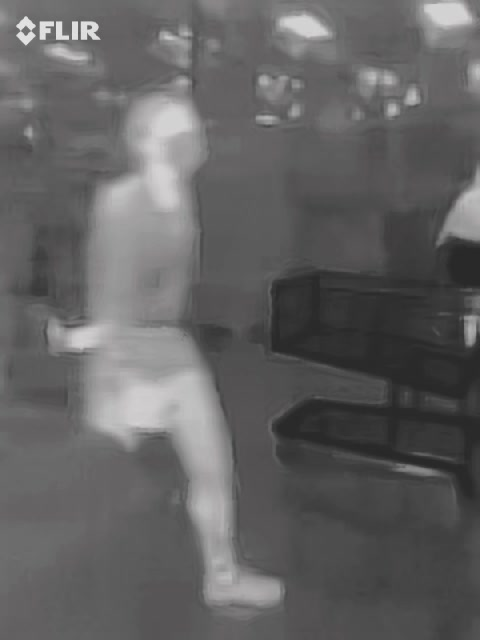head: (122, 84, 211, 174)
